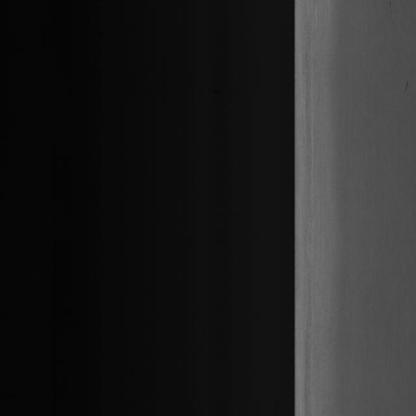inclusion: (400, 73, 415, 101)
